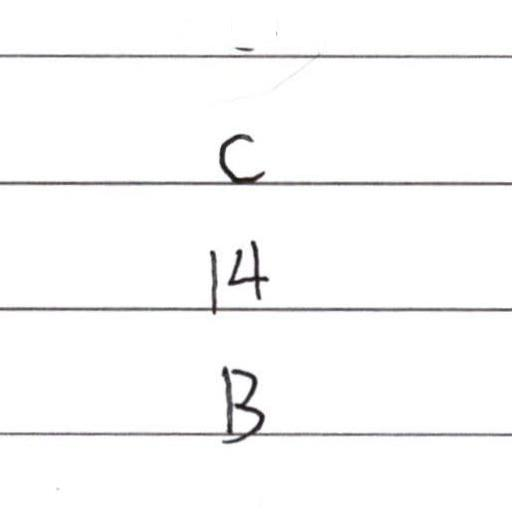ans: (205, 237, 269, 311), (217, 361, 266, 446), (216, 132, 267, 185)
